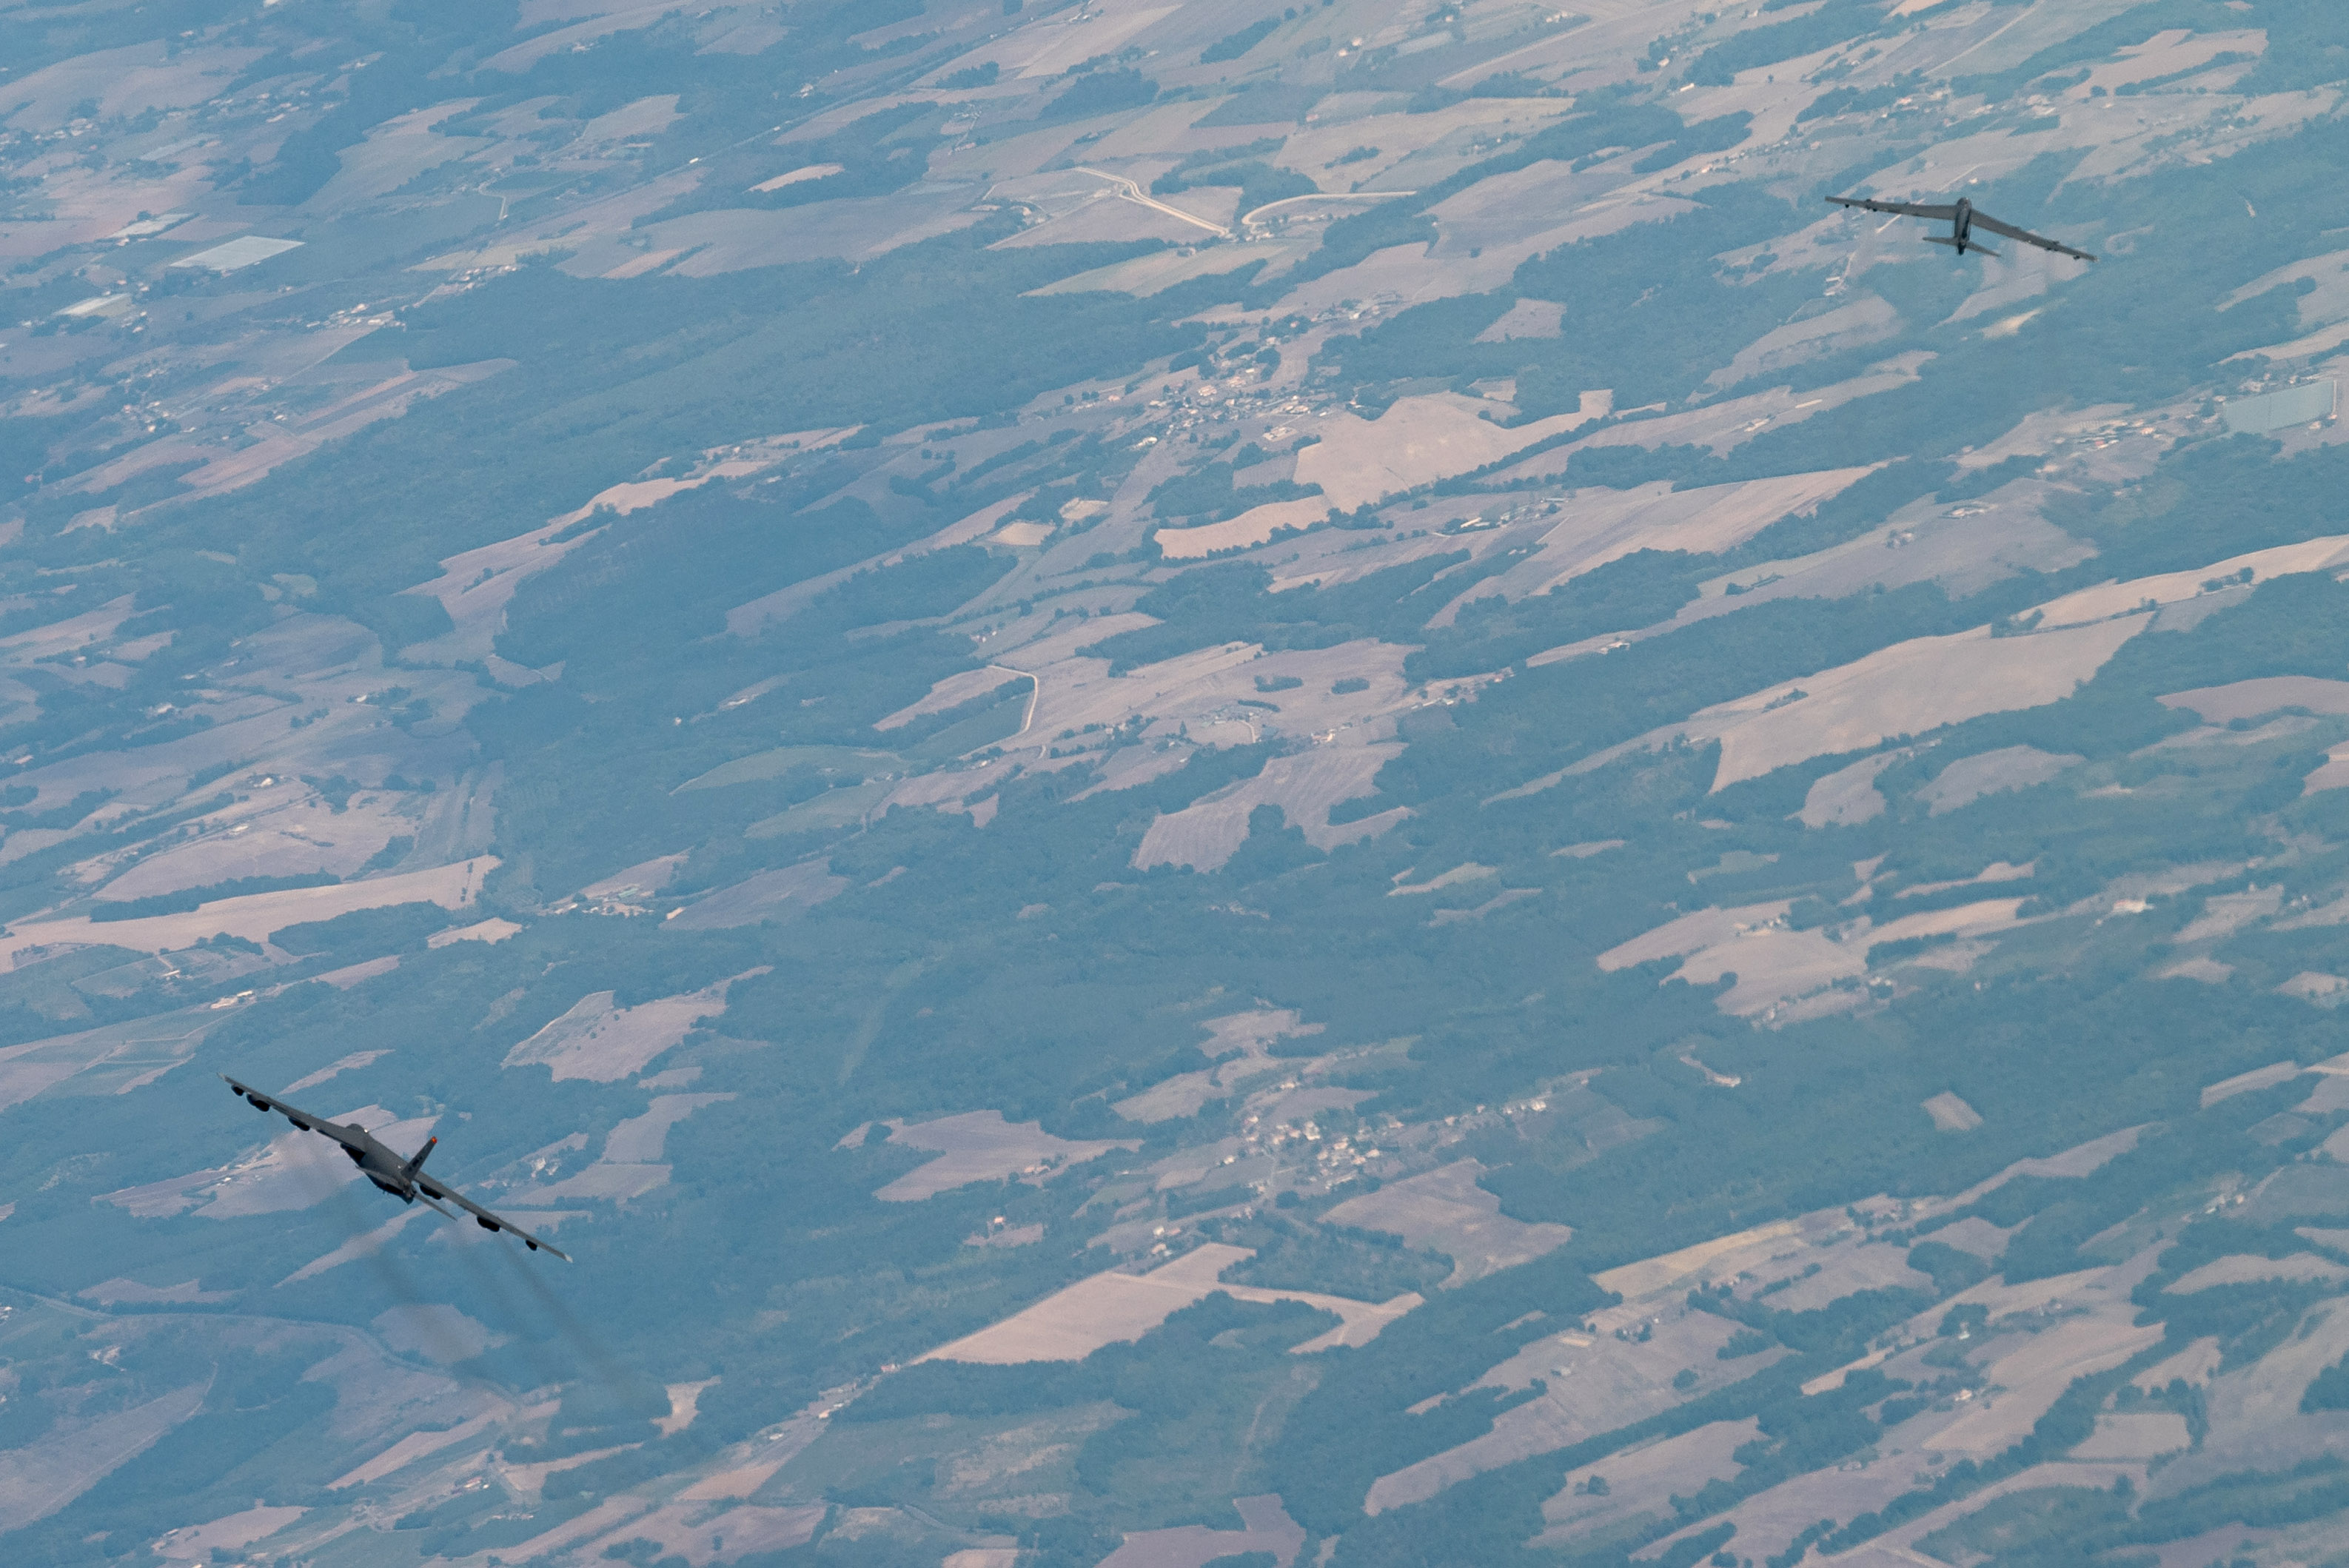B52: (217, 1073, 574, 1263), (1823, 194, 2101, 264)
